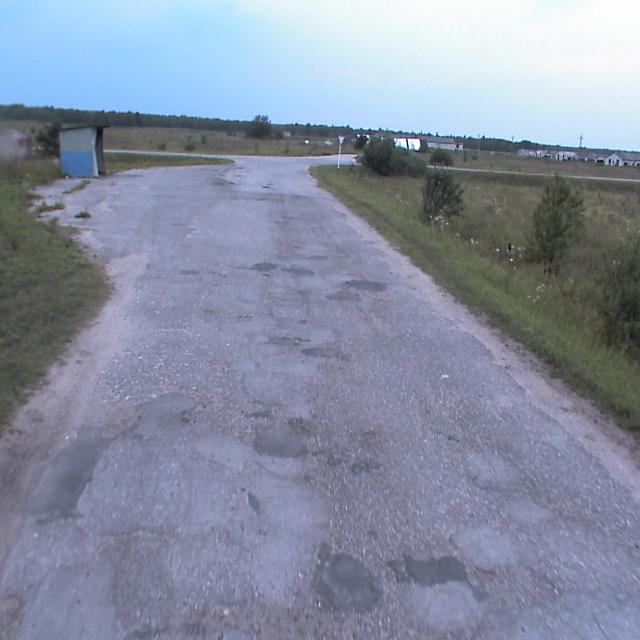road: (0, 150, 639, 639)
